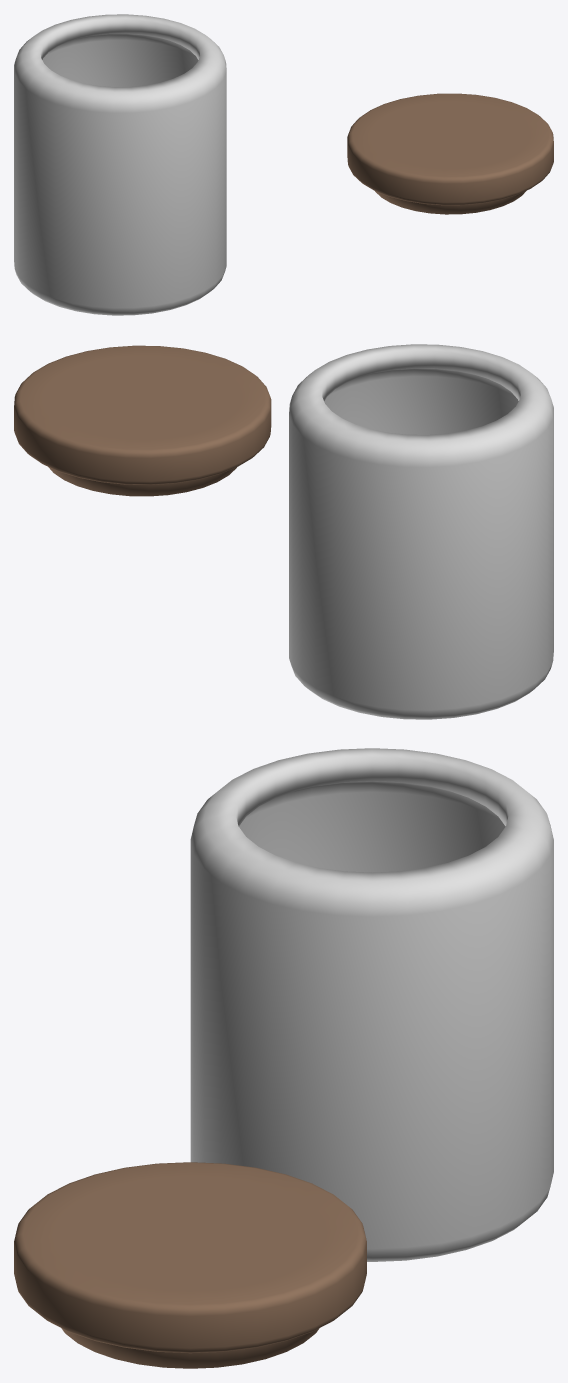
File: glass_jar.glb
The picture shows the model from 3 angles, top to bottom: view 1: azimuth 30°, elevation 25°; view 2: azimuth 150°, elevation 25°; view 3: azimuth 270°, elevation 25°; orthographic projection. The views are drawn at different scales.
Visible parts, largest first — view 1: Object_2, Object_3; view 2: Object_2, Object_3; view 3: Object_2, Object_3.
Boxes of the visible parts, <box> form: Object_2: <box>14,14,226,315</box>; Object_3: <box>347,93,553,214</box>; Object_2: <box>289,344,553,719</box>; Object_3: <box>14,345,271,496</box>; Object_2: <box>190,748,553,1261</box>; Object_3: <box>14,1162,366,1368</box>.
Size of the model in its own units: 4.97 by 2.3 by 2.97.
